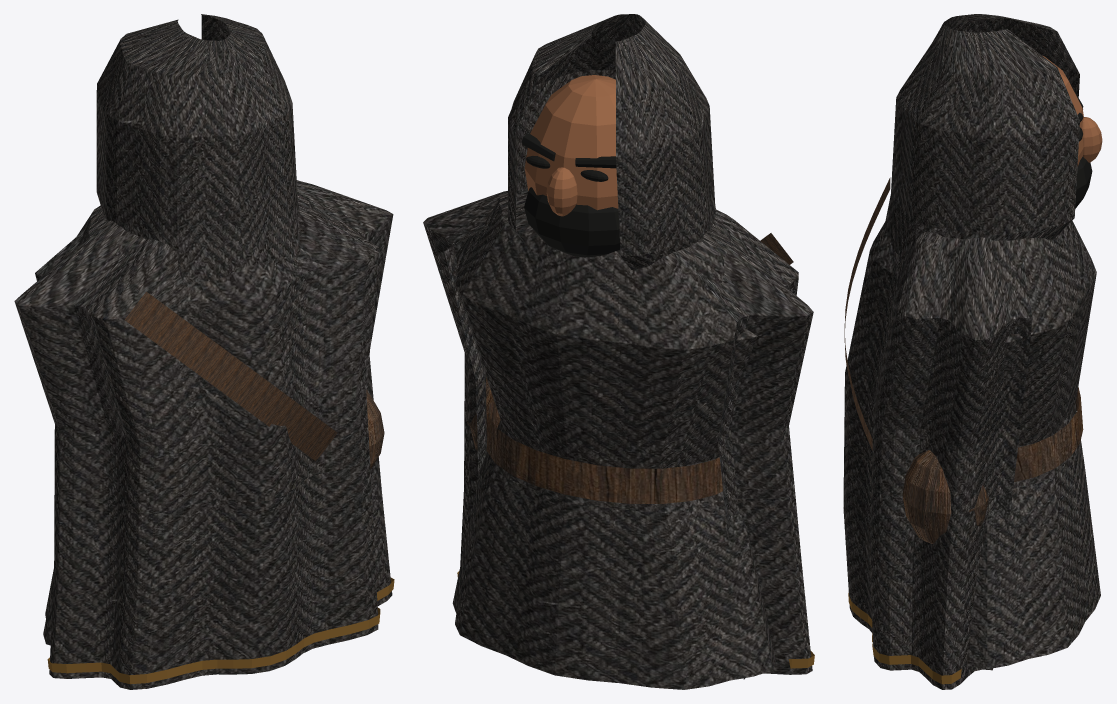
File: traveller_coat.obj
3 views of the same model, side by side, from view 1: azimuth 30°, elevation 25°; view 2: azimuth 150°, elevation 25°; view 3: azimuth 270°, elevation 25° (orthographic). The views are drawn at different scales.
Bounding box in the file's own units: 0.8814 × 1.34 × 0.5374.
5 materials, 2 textured.
